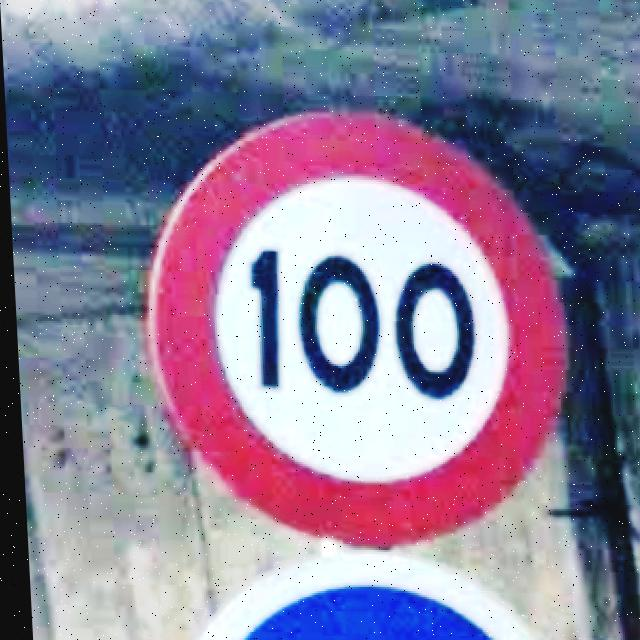max100: (129, 104, 579, 548)
